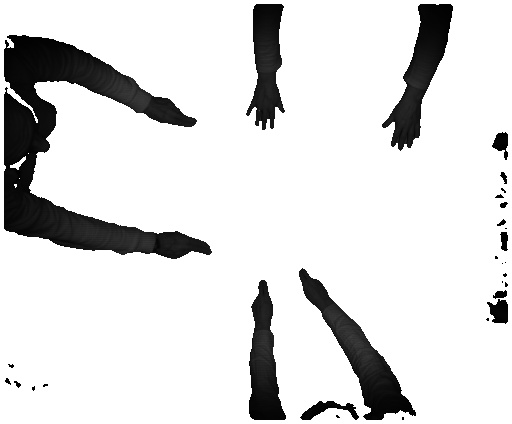hand: (240, 83, 287, 135), (376, 100, 423, 151), (161, 224, 215, 263), (296, 264, 336, 310), (149, 97, 199, 127), (248, 280, 279, 328)
